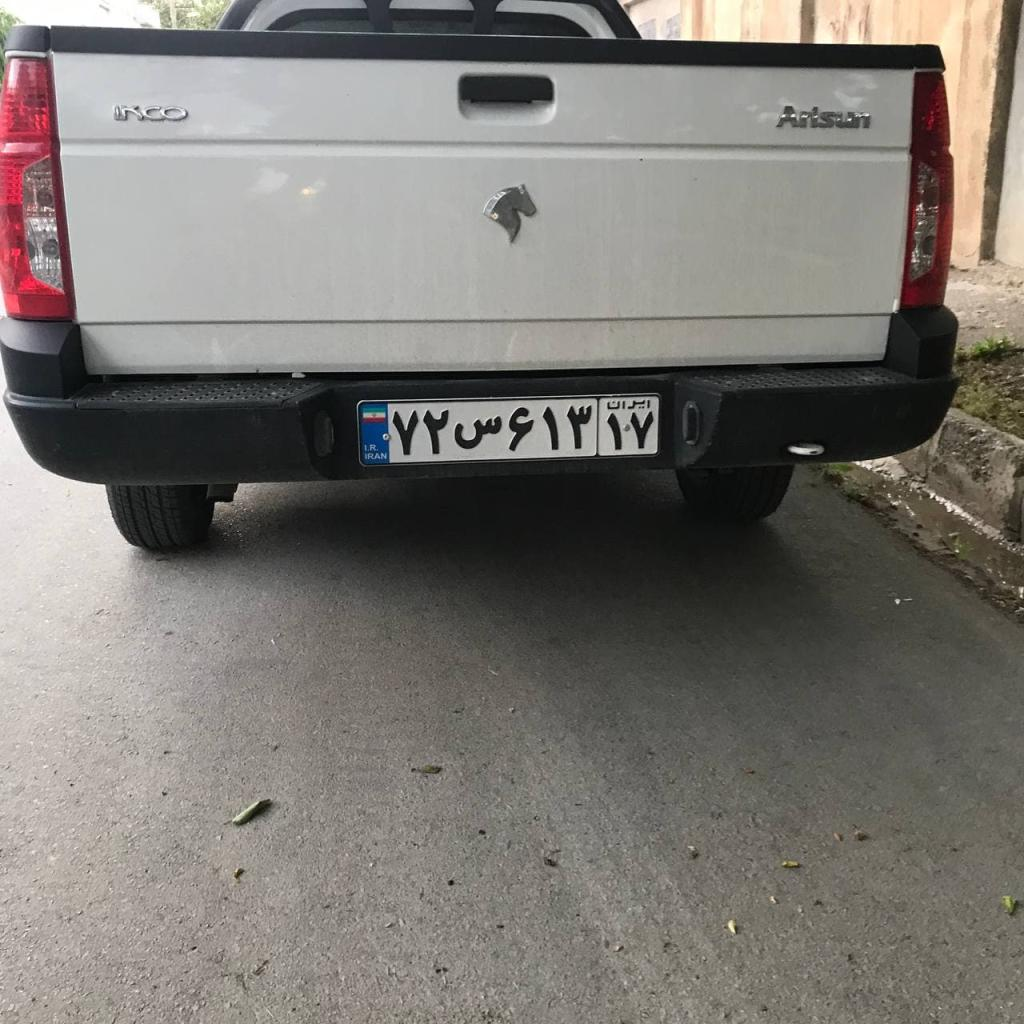Plates: (359, 396, 659, 466)
